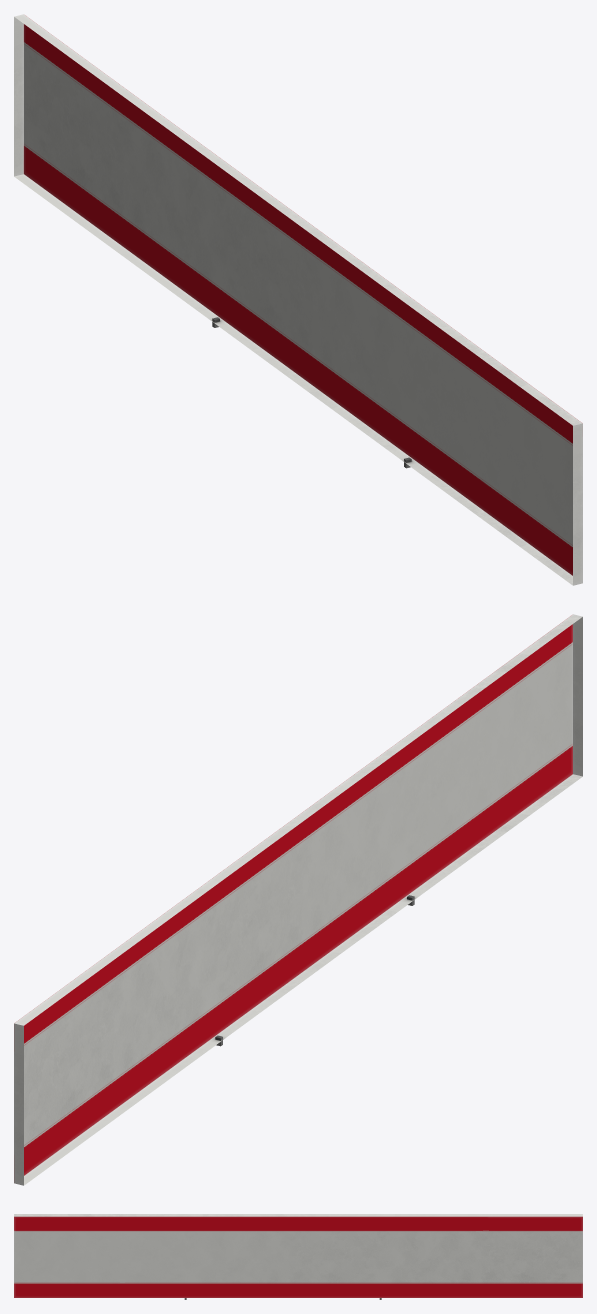
The model's file is Tunnel_1_sidesheet.fbx.
The picture shows the model from 3 angles, top to bottom: view 1: azimuth 30°, elevation 25°; view 2: azimuth 150°, elevation 25°; view 3: azimuth 270°, elevation 25°; orthographic projection. The views are drawn at different scales.
Visible parts, largest first — view 1: whitesheet; view 2: whitesheet; view 3: whitesheet.
Part boxes in pixels (x1,y1,x2,y2): whitesheet: (14,14,582,585); whitesheet: (14,614,582,1185); whitesheet: (14,1214,582,1299).
Size of the model in its own units: 13.04 by 207 by 1267.
